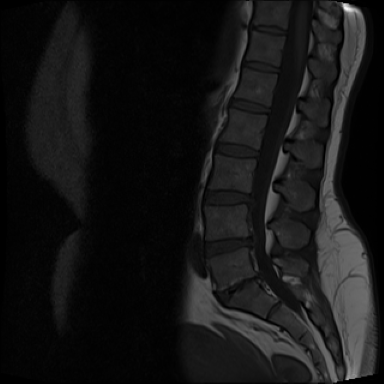Lumbar Disc Bulge (LDB): (211, 264, 272, 308), (198, 224, 260, 261), (196, 183, 263, 208)
Normal IVD: (205, 138, 263, 162), (222, 94, 271, 117), (236, 57, 282, 76), (247, 22, 289, 38)
Spinal Stenosis (SS): (242, 225, 269, 255), (248, 263, 272, 288), (241, 189, 263, 212)
Spondylolisthesis: (193, 250, 281, 312)
